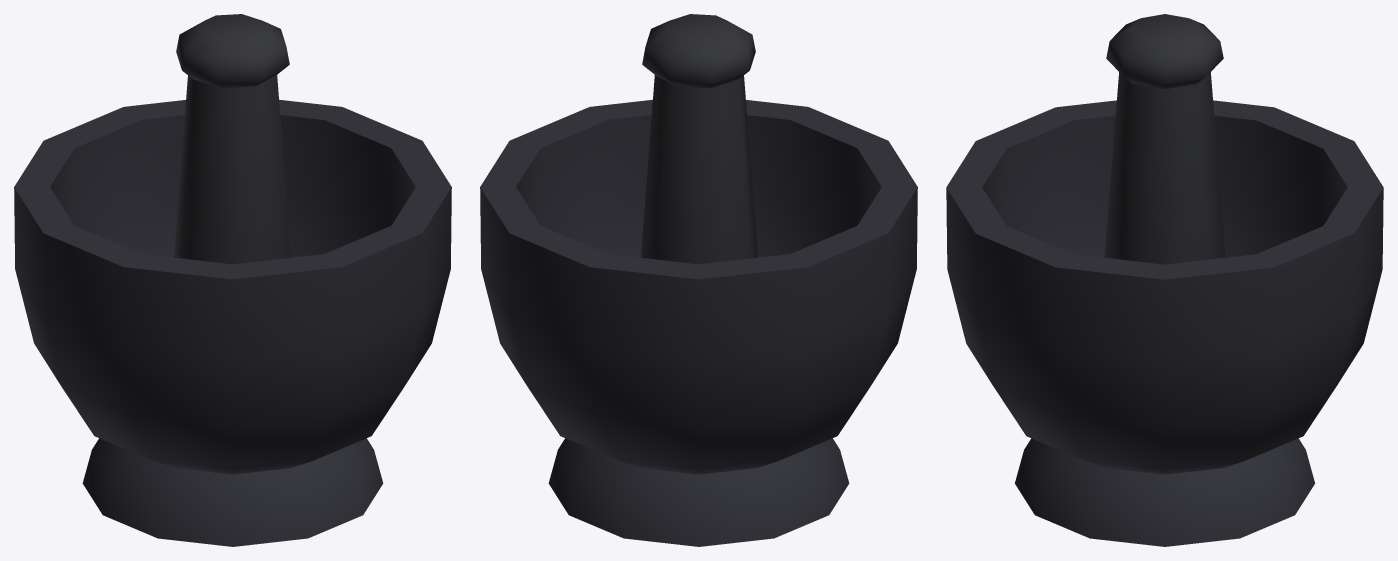
Rendered from Mortar_01.fbx.
The picture shows the model from 3 angles, left to right: view 1: azimuth 30°, elevation 25°; view 2: azimuth 150°, elevation 25°; view 3: azimuth 270°, elevation 25°; orthographic projection.
Parts seen in each view (by area): view 1: Mortar_01, Pestle_01; view 2: Mortar_01, Pestle_01; view 3: Mortar_01, Pestle_01.
Part boxes in pixels (<box>): Mortar_01: <box>14,99,451,546</box>; Pestle_01: <box>174,14,290,264</box>; Mortar_01: <box>480,99,917,546</box>; Pestle_01: <box>641,14,757,264</box>; Mortar_01: <box>946,100,1383,546</box>; Pestle_01: <box>1104,14,1225,264</box>.
Bounding box in the file's own units: 0.1252 × 0.1438 × 0.1252.
